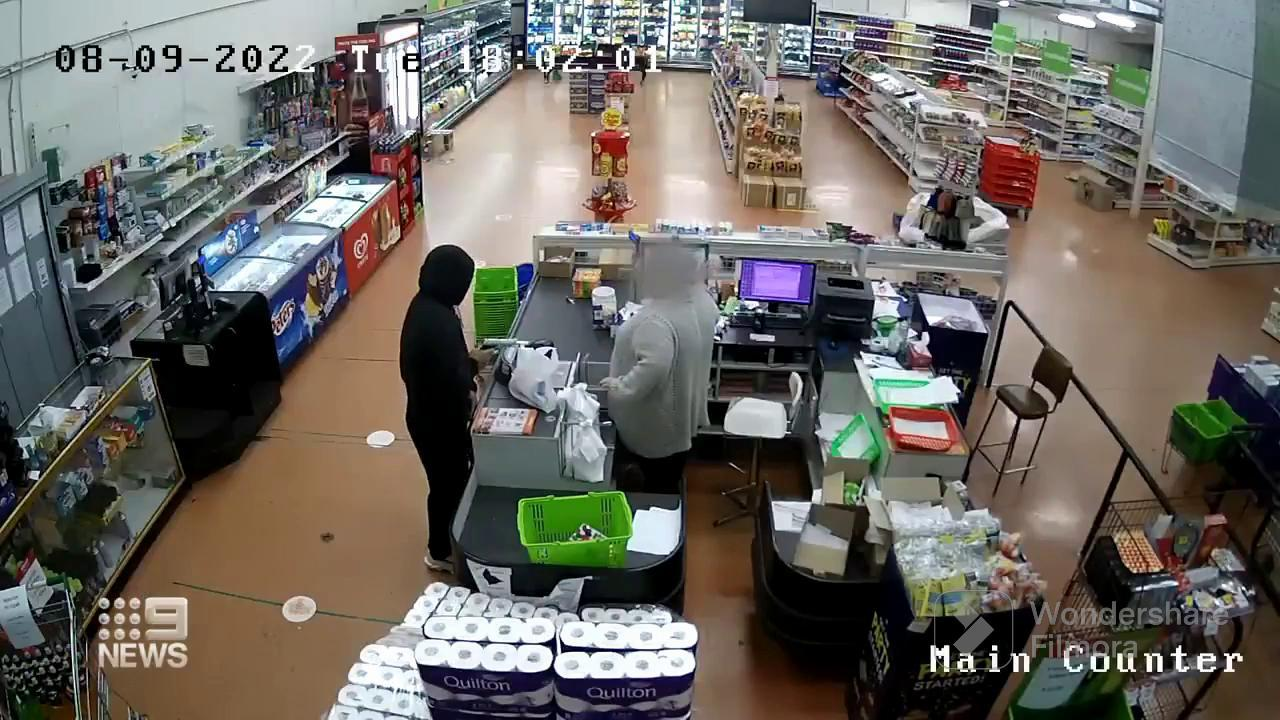gun: (479, 326, 524, 362)
